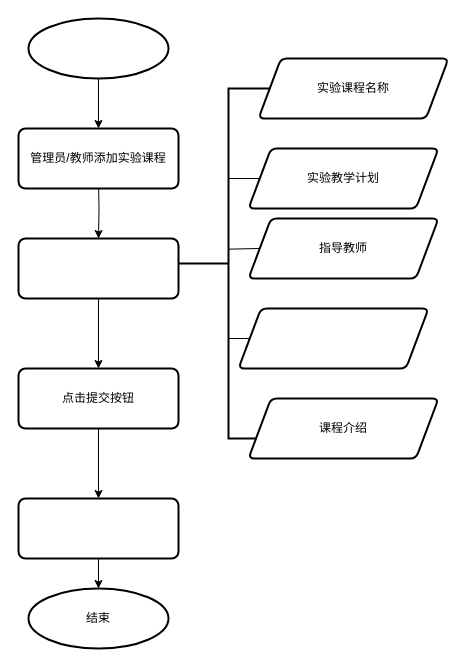
Some shapes in this 466 by 666 pixel diagram are drawn without their labels. The shapes that lost their labels are listed below. From the top down, each one's centre as x and y in pixels, then its label:
(98,48): 开始
(98,268): 填写实验课程信息
(333,338): 教学目的和要求
(98,528): 实验课程在数据库中添加成功
